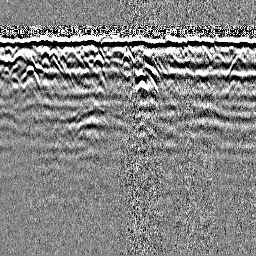cavity: (120, 47, 136, 64)
